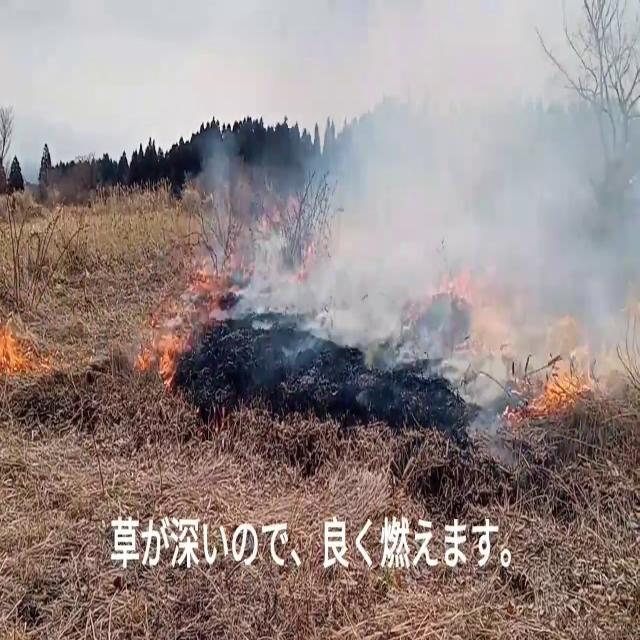Fire: (137, 303, 196, 388), (535, 348, 581, 413), (0, 307, 33, 388)
Smoke: (198, 3, 640, 430)
